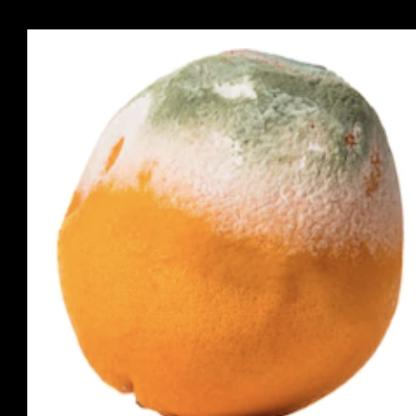rotten: (57, 52, 403, 416)
